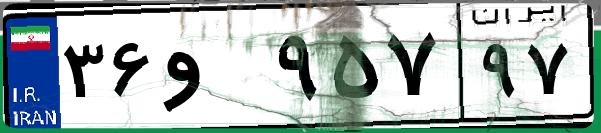3: (57, 26, 110, 100)
5: (330, 28, 385, 110)
6: (110, 28, 158, 98)
7: (385, 28, 445, 110), (525, 38, 570, 115)
9: (270, 28, 330, 110), (475, 38, 525, 113)
و: (158, 20, 270, 120)
